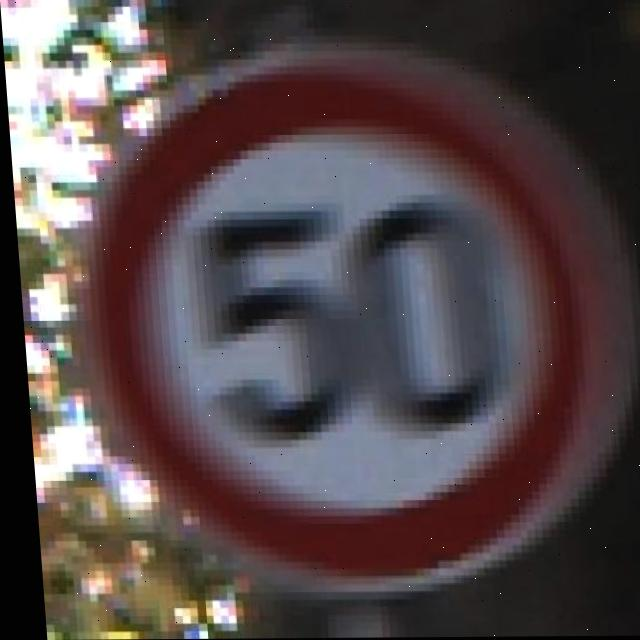Speed limit 50: (73, 42, 640, 599)
